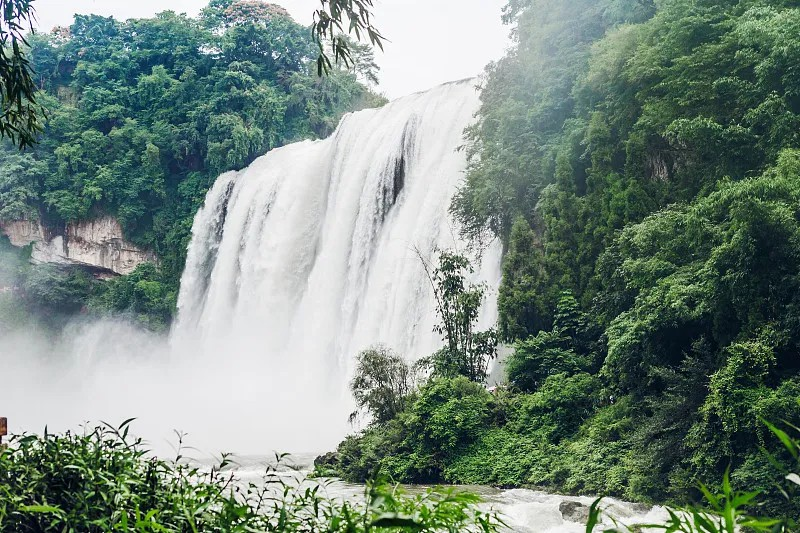Huangguoshu: (173, 76, 498, 408)
